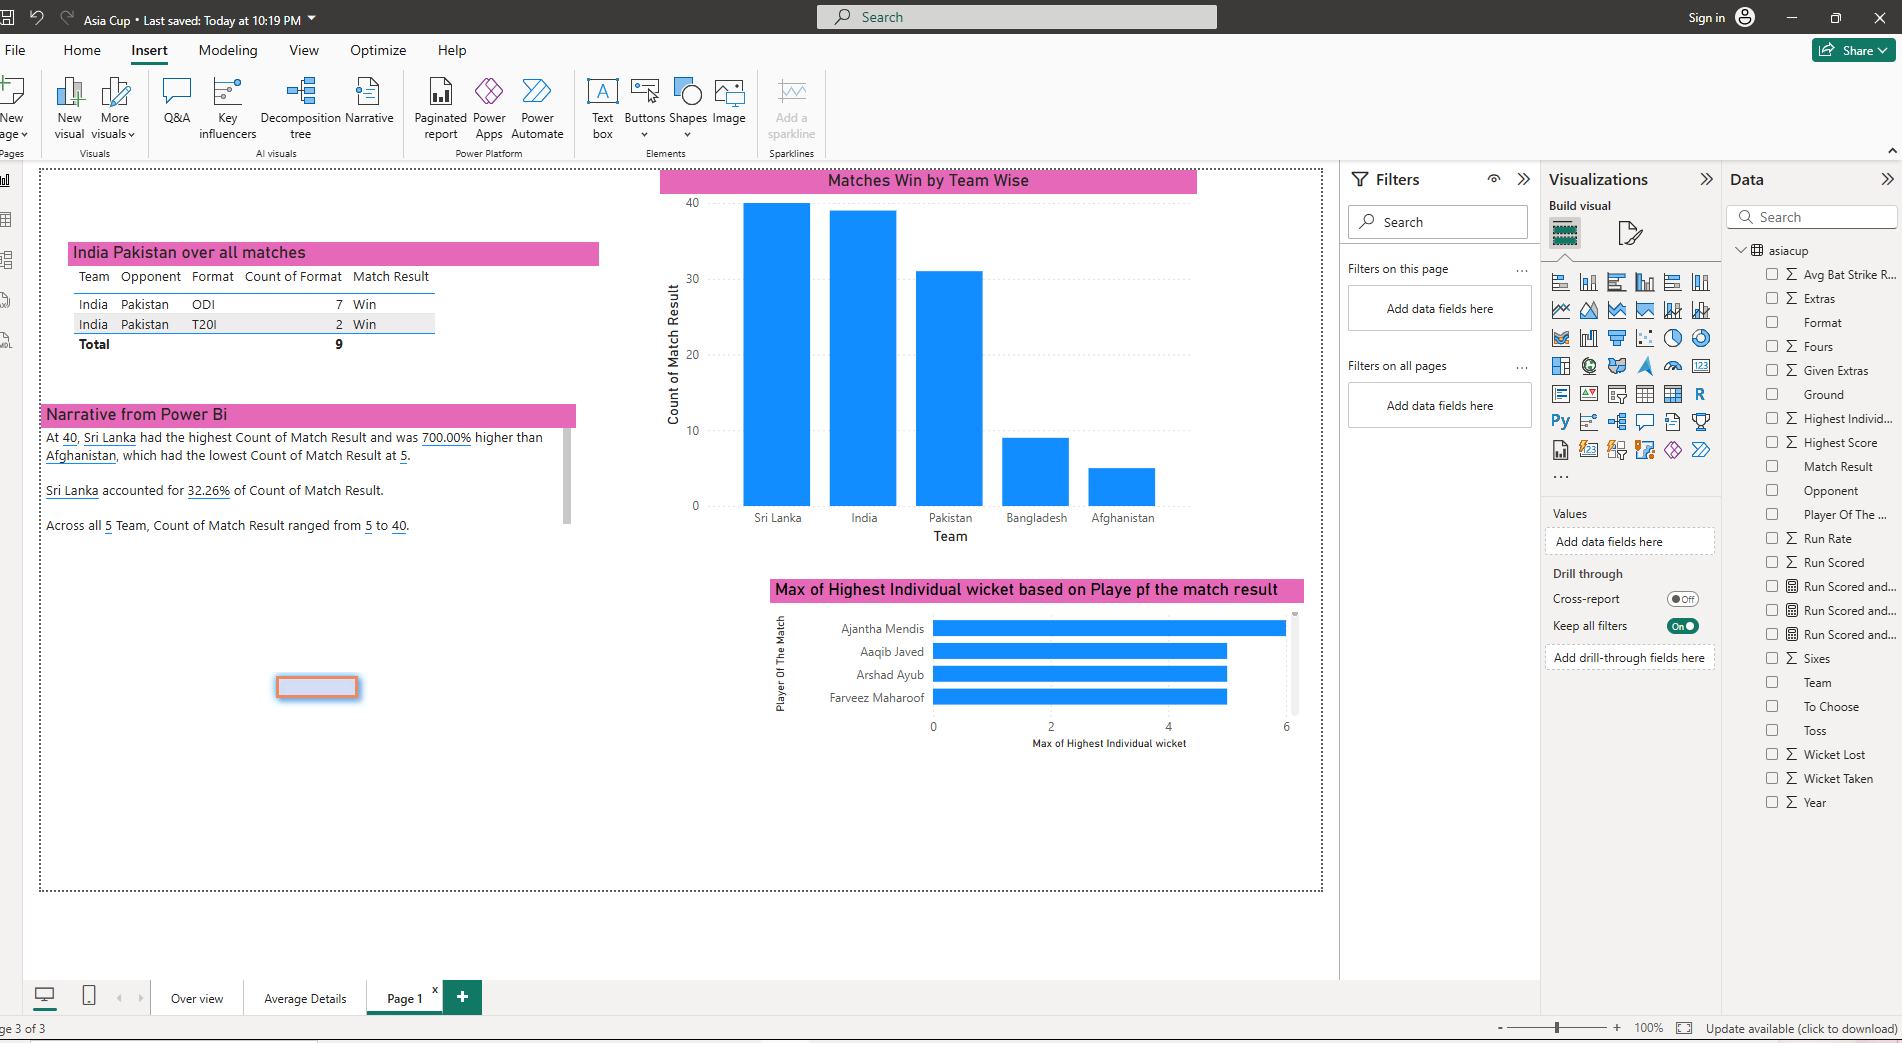

The dashboard page shown, as its layout file describes it:
{"tool":"powerbi","page":{"name":"Page 1","canvas":[1280,720],"ordinal":2},"visuals":[{"type":"tableEx","title":"India Pakistan over all matches","fields":{"Values":["asiacup.Team","asiacup.Opponent","asiacup.Format","asiacup.Format","asiacup.Match Result"]},"box":[27,72,531,134],"z":1},{"type":"columnChart","title":"Matches Win by Team Wise ","fields":{"Category":["asiacup.Team"],"Y":["asiacup.Match Result"]},"box":[618.6,0,536.9,379.3],"z":2},{"type":"textbox","title":"Narrative from Power Bi ","box":[0,234.4,535,144.9],"z":3},{"type":"clusteredBarChart","title":"Max of Highest Individual wicket based on Playe pf the match result ","fields":{"Category":["asiacup.Player Of The Match"],"Y":["asiacup.Highest Individual wicket"]},"box":[729.5,409.5,534,174.1],"z":4},{"type":"actionButton","box":[226,497,100,40],"z":5}]}

Visuals, with their boxes on the page's 1280x720 design canvas (x1, y1, x2, y2). These are canvas units, not pixel positions in the 1902x1043 screenshot, which may show the page scaled, cropped or inside an application window:
"India Pakistan over all matches" tableEx: bbox=[27, 72, 558, 206]
"Matches Win by Team Wise " columnChart: bbox=[619, 0, 1156, 379]
"Narrative from Power Bi " textbox: bbox=[0, 234, 535, 379]
"Max of Highest Individual wicket based on Playe pf the match result " clusteredBarChart: bbox=[730, 410, 1264, 584]
actionButton: bbox=[226, 497, 326, 537]
